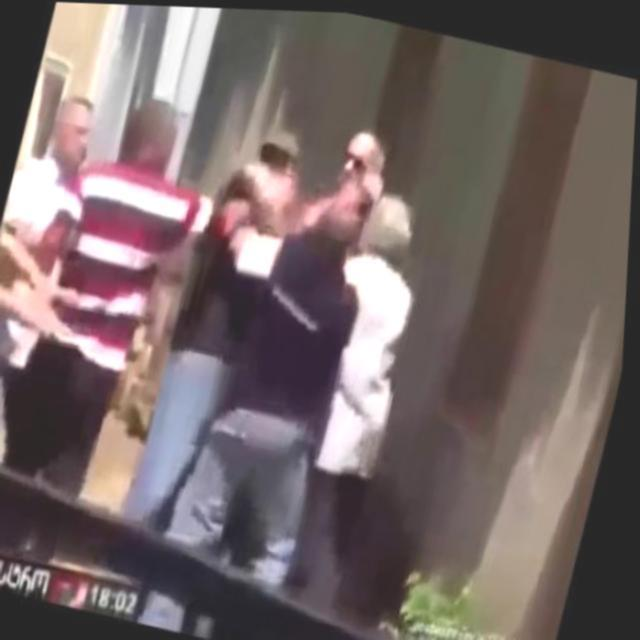fight: (114, 101, 404, 626)
